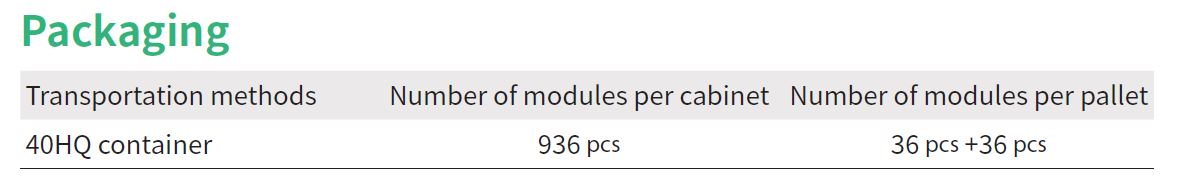table: (12, 55, 1181, 182)
table column: (363, 61, 781, 174), (783, 60, 1170, 170), (14, 62, 363, 170)
table column header: (18, 61, 1181, 114)
table name: (13, 1, 324, 53)
table row: (17, 62, 1181, 117), (18, 120, 1181, 173)
